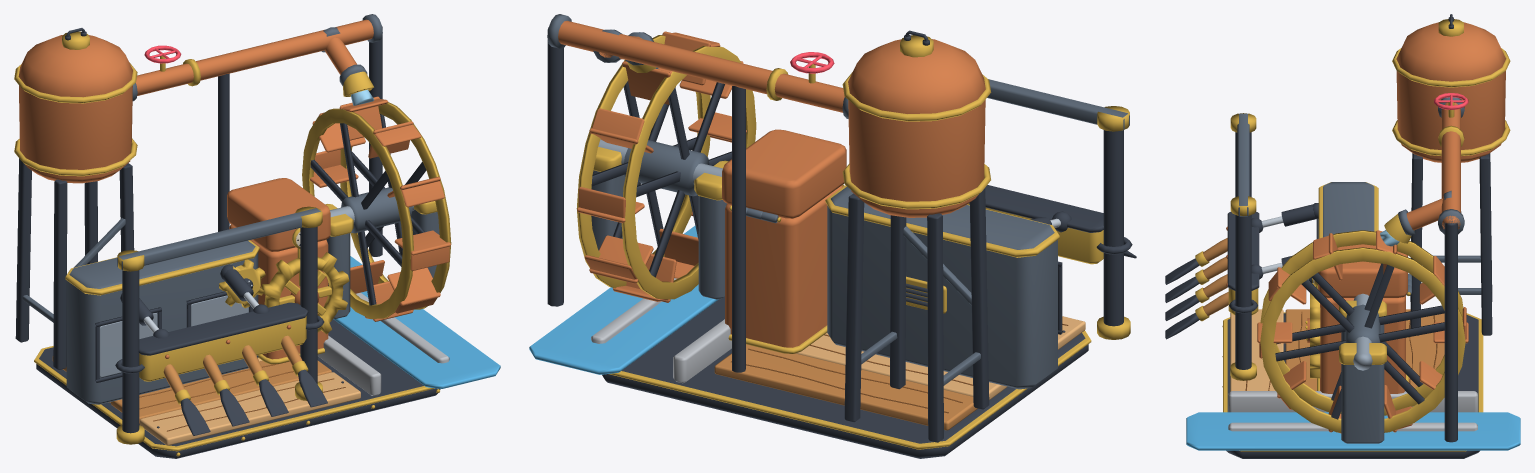
The model's file is ChiselMill_T2.fbx.
The picture shows the model from 3 angles, left to right: view 1: azimuth 30°, elevation 25°; view 2: azimuth 150°, elevation 25°; view 3: azimuth 270°, elevation 25°; orthographic projection. The views are drawn at different scales.
Visible parts, largest first — view 1: ChiselMillT2Cistern, ChiselMillT2Wheel, ChiselMillT2CamHousing, ChiselMillT2Pipe, ChiselMillT2Columns, ChiselMillT2Base, ChiselMillT2Floor, ChiselMillT2Crosshead, ChiselMillT2Water, ChiselMillT2Gearbox, ChiselMillT2Chisels, ChiselMillT2DriveGear (+4 smaller); view 2: ChiselMillT2Cistern, ChiselMillT2CamHousing, ChiselMillT2Wheel, ChiselMillT2Gearbox, ChiselMillT2Pipe, ChiselMillT2Base, ChiselMillT2Floor, ChiselMillT2Water, ChiselMillT2Columns, ChiselMillT2Pedestal, ChiselMillT2Crosshead, ChiselMillT2Race; view 3: ChiselMillT2Wheel, ChiselMillT2Cistern, ChiselMillT2Water, ChiselMillT2Pipe, ChiselMillT2Gearbox, ChiselMillT2Columns, ChiselMillT2Base, ChiselMillT2Pedestal, ChiselMillT2Floor, ChiselMillT2Race, ChiselMillT2Chisels, ChiselMillT2CamHousing (+4 smaller).
Part boxes in pixels (x1,y1,x2,y2): ChiselMillT2Cistern: [14, 28, 137, 369]; ChiselMillT2Wheel: [302, 96, 451, 321]; ChiselMillT2CamHousing: [65, 240, 259, 404]; ChiselMillT2Pipe: [132, 14, 382, 256]; ChiselMillT2Columns: [116, 206, 322, 444]; ChiselMillT2Base: [34, 319, 440, 458]; ChiselMillT2Floor: [52, 356, 360, 445]; ChiselMillT2Crosshead: [115, 302, 324, 381]; ChiselMillT2Water: [333, 89, 500, 388]; ChiselMillT2Gearbox: [227, 178, 330, 364]; ChiselMillT2Chisels: [163, 335, 327, 435]; ChiselMillT2DriveGear: [261, 252, 349, 345]; ChiselMillT2Cistern: [842, 30, 991, 442]; ChiselMillT2CamHousing: [825, 185, 1062, 389]; ChiselMillT2Wheel: [576, 31, 756, 302]; ChiselMillT2Gearbox: [722, 129, 846, 353]; ChiselMillT2Pipe: [547, 14, 848, 372]; ChiselMillT2Base: [602, 297, 1091, 458]; ChiselMillT2Floor: [714, 316, 1085, 430]; ChiselMillT2Water: [529, 67, 718, 374]; ChiselMillT2Columns: [987, 79, 1130, 339]; ChiselMillT2Pedestal: [591, 147, 728, 299]; ChiselMillT2Crosshead: [967, 185, 1132, 264]; ChiselMillT2Race: [591, 278, 731, 383]; ChiselMillT2Wheel: [1257, 230, 1468, 433]; ChiselMillT2Cistern: [1392, 14, 1510, 335]; ChiselMillT2Water: [1186, 230, 1520, 450]; ChiselMillT2Pipe: [1384, 93, 1468, 442]; ChiselMillT2Gearbox: [1312, 244, 1411, 393]; ChiselMillT2Columns: [1230, 113, 1256, 380]; ChiselMillT2Base: [1222, 312, 1483, 458]; ChiselMillT2Pedestal: [1339, 300, 1386, 443]; ChiselMillT2Floor: [1230, 309, 1444, 391]; ChiselMillT2Race: [1228, 391, 1477, 431]; ChiselMillT2Chisels: [1165, 238, 1228, 339]; ChiselMillT2CamHousing: [1316, 182, 1378, 238].
Size of the model in its own units: 297 by 250 by 249.
